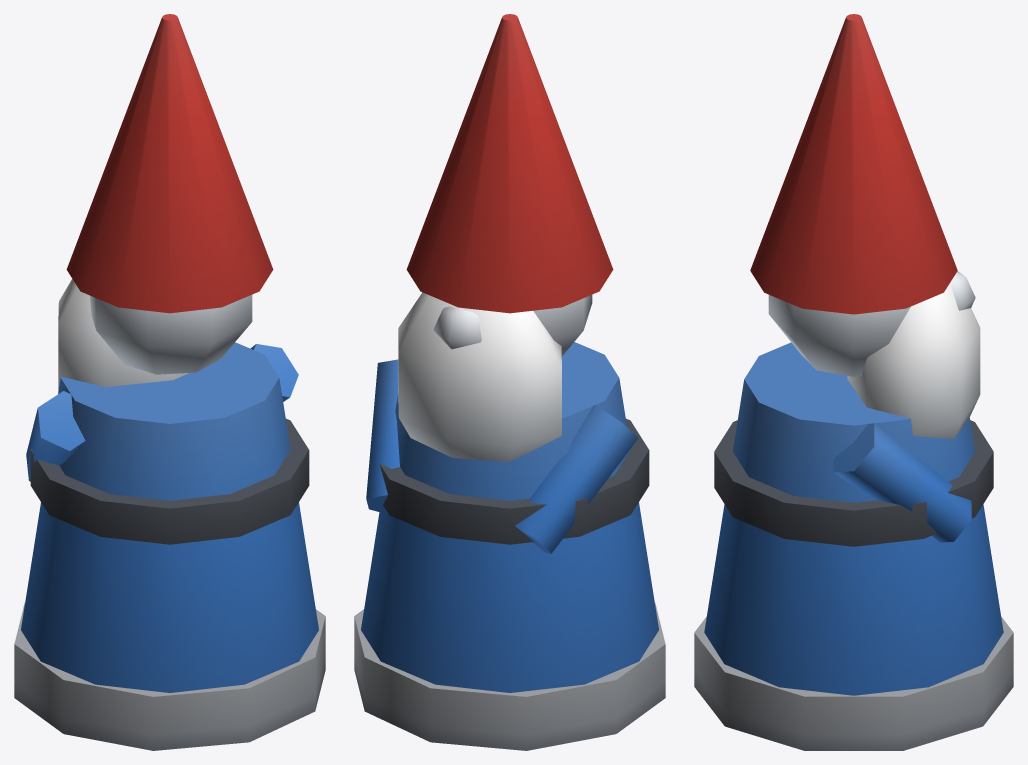
The model's file is ck_garden_gnome.fbx.
3 views of the same model, side by side, from view 1: azimuth 30°, elevation 25°; view 2: azimuth 150°, elevation 25°; view 3: azimuth 270°, elevation 25° (orthographic).
Visible parts, largest first — view 1: ck_garden_gnome; view 2: ck_garden_gnome; view 3: ck_garden_gnome.
Boxes of the visible parts, x1,y1,x2,y2 form: ck_garden_gnome: (14,14,325,750); ck_garden_gnome: (354,14,665,750); ck_garden_gnome: (694,14,1013,750).
Size of the model in its own units: 49.35 by 120 by 51.89.
